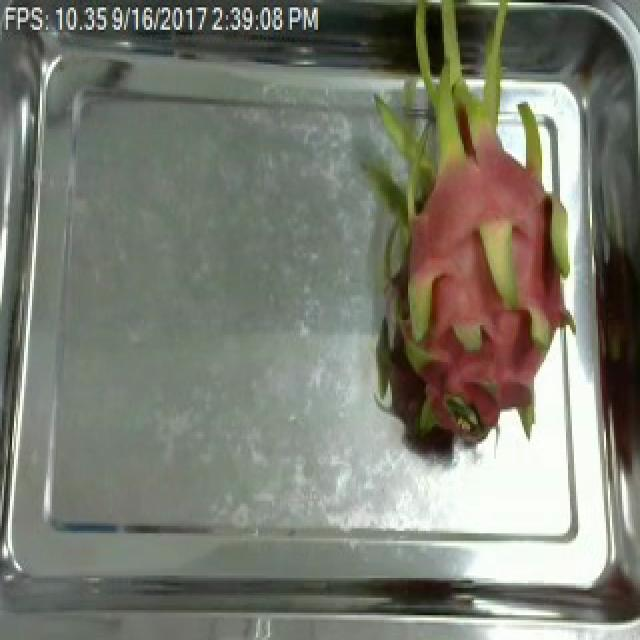fruit: (320, 40, 612, 471)
